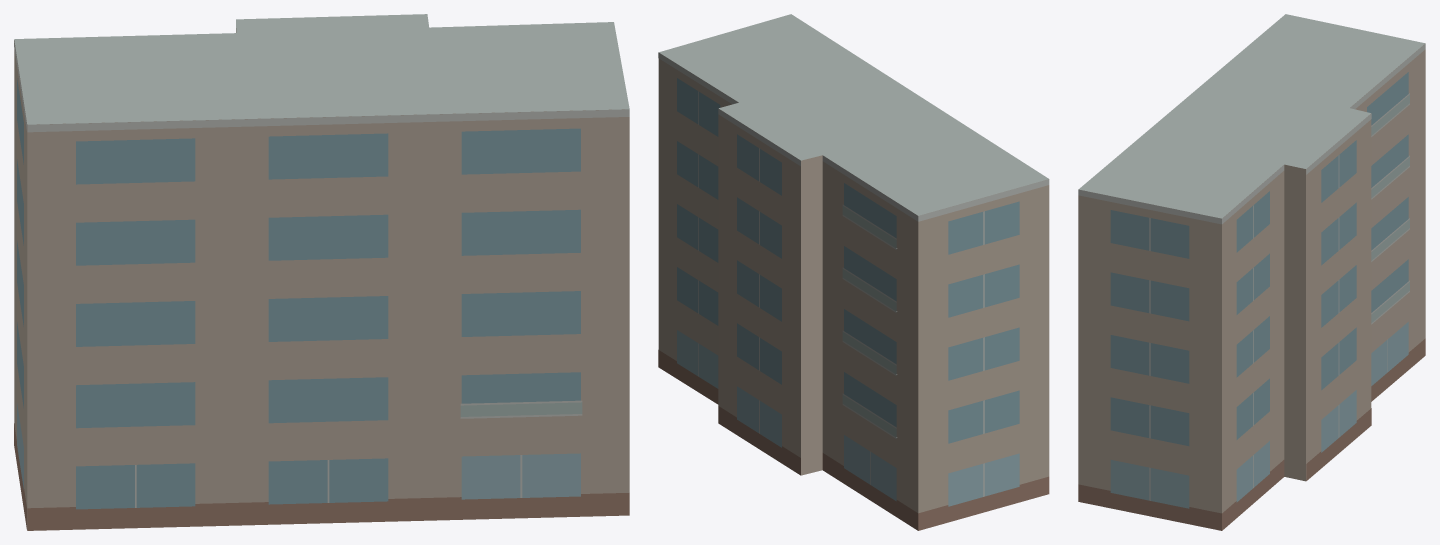
Rendered from survey-upis-32885861.glb.
The picture shows the model from 3 angles, left to right: view 1: azimuth 30°, elevation 25°; view 2: azimuth 150°, elevation 25°; view 3: azimuth 270°, elevation 25°; orthographic projection. The views are drawn at different scales.
Parts seen in each view (by area): view 1: survey-upis-32885861.tmp; view 2: survey-upis-32885861.tmp; view 3: survey-upis-32885861.tmp.
Boxes of the visible parts, bbox=[...] form: survey-upis-32885861.tmp: bbox=[14, 14, 629, 530]; survey-upis-32885861.tmp: bbox=[658, 14, 1049, 530]; survey-upis-32885861.tmp: bbox=[1078, 14, 1425, 530].
Size of the model in its own units: 18.28 by 13 by 13.11.
